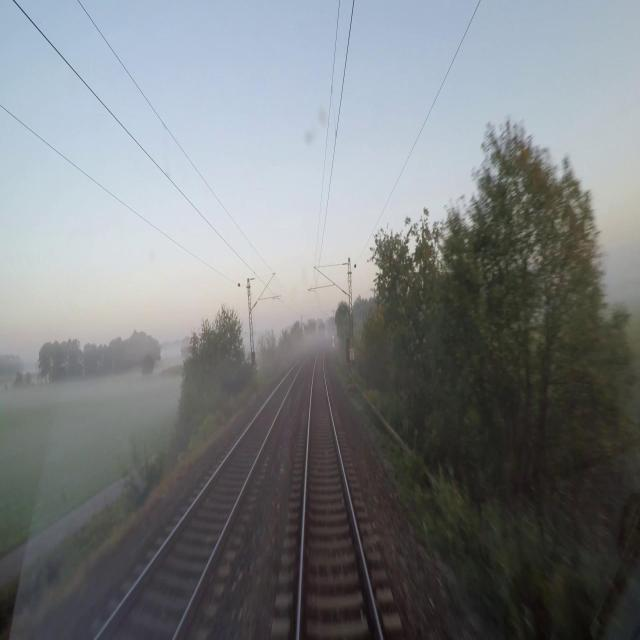rail-track: (99, 359, 303, 639), (301, 351, 379, 639)
